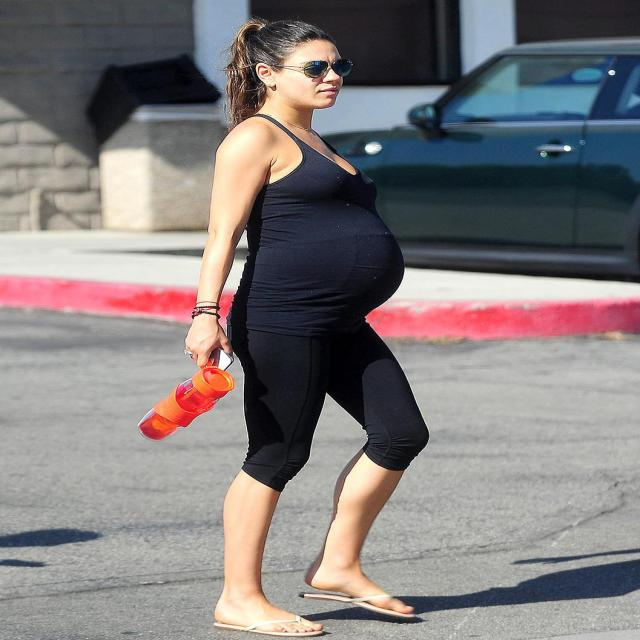no-earmuff: (242, 56, 289, 99)
